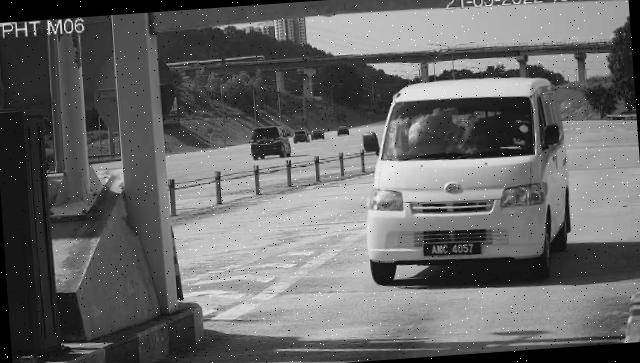License_Plate: (422, 239, 484, 261)
van: (357, 73, 576, 287)
